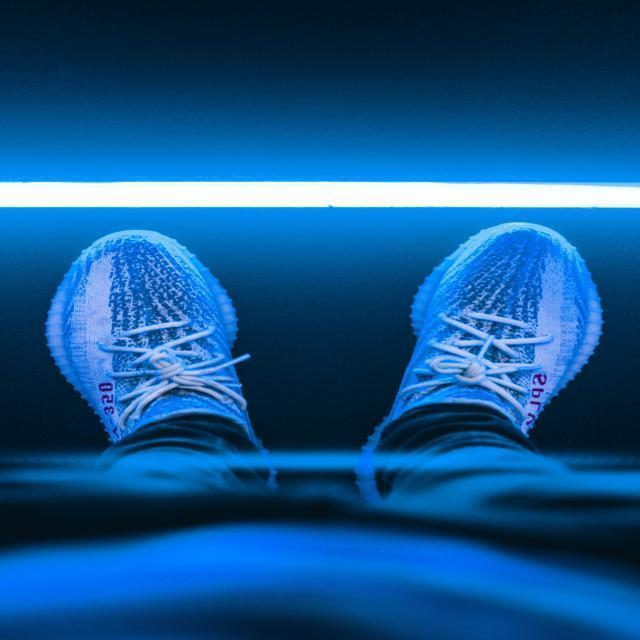shoes: (353, 217, 608, 512), (32, 226, 288, 480)
